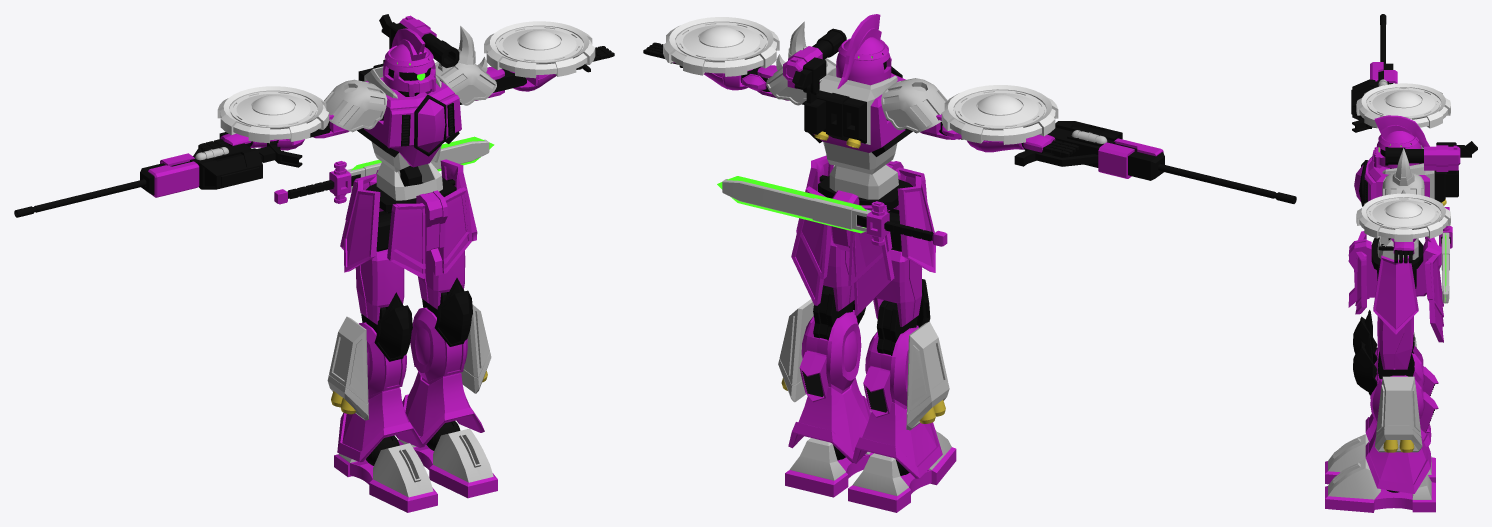
File: pawn_prueba.fbx
The picture shows the model from 3 angles, left to right: view 1: azimuth 30°, elevation 25°; view 2: azimuth 150°, elevation 25°; view 3: azimuth 270°, elevation 25°; orthographic projection. The views are drawn at different scales.
Parts seen in each view (by area): view 1: Box395, pecho_InnerFrame010, Box401, Shield_GuardType008, Shield_GuardType007, Circle002, Front-Skirt_GuardType003, Propulsor_Armor006, Sphere066, Shoulder_Armor_GuardType010, Box405, Box398 (+19 smaller); view 2: Box395, Box401, Shield_GuardType008, Shield_GuardType007, Back-Skirt_GuardType003, Propulsor_Armor006, Circle002, Funda_Sword004, pecho_InnerFrame010, Shoulder_Armor_GuardType010, Box408, Box398 (+22 smaller); view 3: Shield_GuardType007, Box395, Shield_GuardType008, Propulsor_Armor005, Box397, Circle002, Box396, Dummy031, Box393, pecho_InnerFrame010, cabeza_Armor_AttackType003, Shoulder_Armor_AttackType003 (+23 smaller).
Part boxes in pixels (left/top/right/bottom): Box395: left=402, top=307, right=484, bottom=447; pecho_InnerFrame010: left=357, top=77, right=461, bottom=172; Box401: left=337, top=322, right=423, bottom=462; Shield_GuardType008: left=217, top=86, right=329, bottom=143; Shield_GuardType007: left=484, top=21, right=595, bottom=78; Circle002: left=366, top=162, right=456, bottom=275; Front-Skirt_GuardType003: left=387, top=187, right=472, bottom=278; Propulsor_Armor006: left=327, top=316, right=368, bottom=420; Sphere066: left=338, top=435, right=433, bottom=497; Shoulder_Armor_GuardType010: left=324, top=79, right=387, bottom=131; Box405: left=355, top=249, right=404, bottom=324; Box398: left=344, top=179, right=380, bottom=272; Box395: left=788, top=310, right=870, bottom=462; Box401: left=852, top=325, right=942, bottom=478; Shield_GuardType008: left=941, top=85, right=1058, bottom=144; Shield_GuardType007: left=663, top=17, right=779, bottom=76; Back-Skirt_GuardType003: left=791, top=188, right=894, bottom=315; Propulsor_Armor006: left=906, top=321, right=949, bottom=430; Circle002: left=818, top=161, right=912, bottom=251; Funda_Sword004: left=722, top=179, right=871, bottom=231; pecho_InnerFrame010: left=808, top=66, right=912, bottom=174; Shoulder_Armor_GuardType010: left=881, top=78, right=947, bottom=132; Box408: left=804, top=84, right=866, bottom=143; Box398: left=897, top=176, right=935, bottom=272; Shield_GuardType007: left=1356, top=193, right=1450, bottom=241; Box395: left=1365, top=371, right=1438, bottom=493; Shield_GuardType008: left=1356, top=83, right=1450, bottom=128; Propulsor_Armor005: left=1374, top=376, right=1422, bottom=452; Box397: left=1373, top=255, right=1418, bottom=334; Circle002: left=1348, top=236, right=1441, bottom=307; Box396: left=1325, top=482, right=1435, bottom=512; Dummy031: left=1328, top=459, right=1431, bottom=499; Box393: left=1377, top=316, right=1413, bottom=369; pecho_InnerFrame010: left=1354, top=156, right=1429, bottom=206; cabeza_Armor_AttackType003: left=1372, top=115, right=1429, bottom=168; Shoulder_Armor_AttackType003: left=1382, top=148, right=1424, bottom=195.
Size of the model in its own units: 1994 by 1388 by 513.
